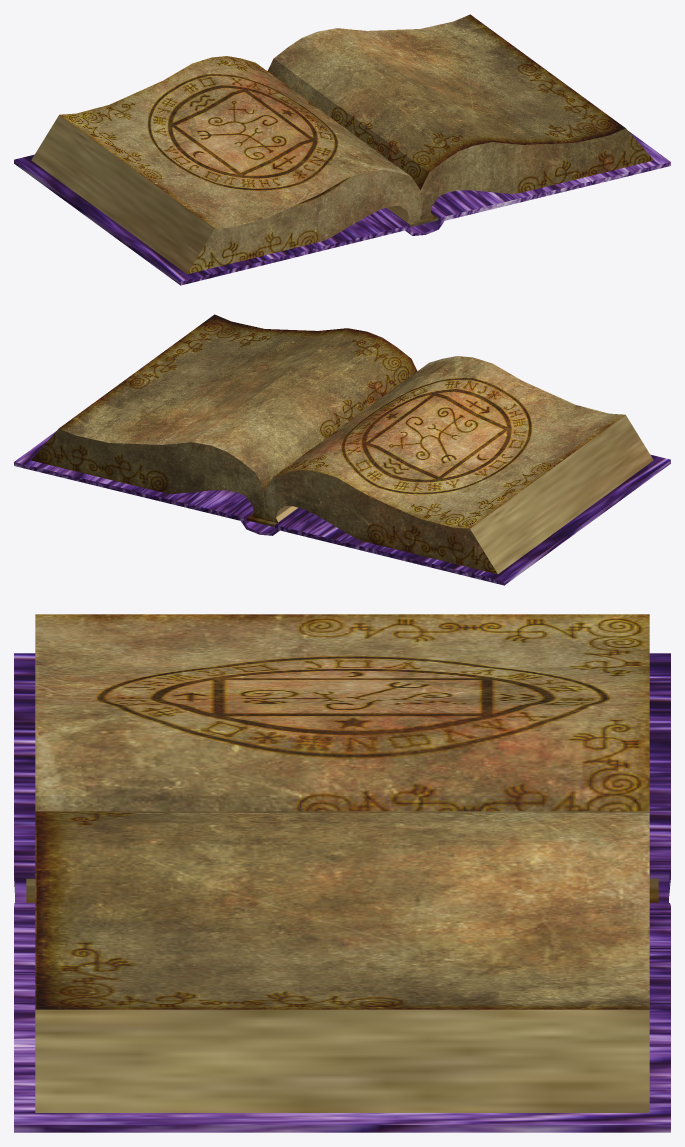
Rendered from Grimoire.fbx.
The picture shows the model from 3 angles, top to bottom: view 1: azimuth 30°, elevation 25°; view 2: azimuth 150°, elevation 25°; view 3: azimuth 270°, elevation 25°; orthographic projection. The views are drawn at different scales.
Visible parts, largest first — view 1: Cylinder; view 2: Cylinder; view 3: Cylinder.
Part boxes in pixels (x1=…): Cylinder: x1=14, y1=14, x2=670, y2=285; Cylinder: x1=14, y1=314, x2=670, y2=585; Cylinder: x1=14, y1=614, x2=670, y2=1132.
Bounding box in the file's own units: 1704 × 241 × 1003.
